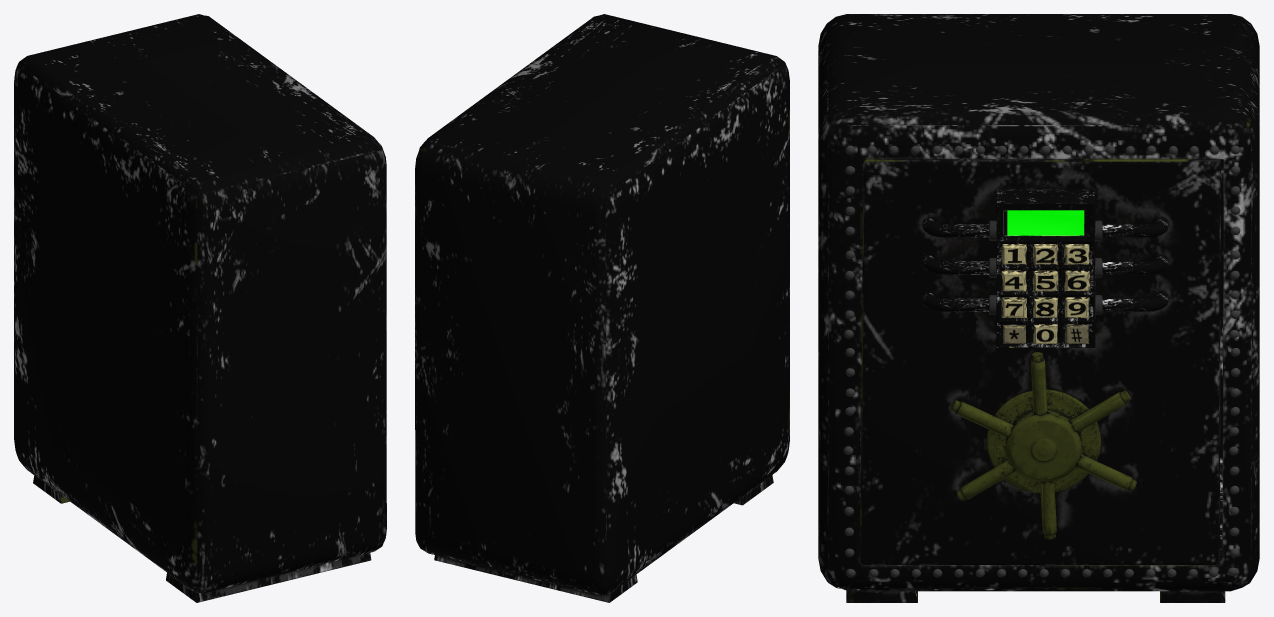
The model's file is heavy_duty_steel_safe_with_digital_keypad.glb.
3 views of the same model, side by side, from view 1: azimuth 30°, elevation 25°; view 2: azimuth 150°, elevation 25°; view 3: azimuth 270°, elevation 25° (orthographic). The views are drawn at different scales.
Visible parts, largest first — view 1: SafeBody_4; view 2: SafeBody_4; view 3: door_32, SafeBody_4, keypadBody_25, handle_11, Circle_33, handlepad_12, wire.003_29, wire.004_30, wire.002_28, wire_26, wire.001_27, wire.005_31 (+1 smaller).
Part boxes in pixels (x1,y1,x2,y2): SafeBody_4: (14, 14, 386, 602); SafeBody_4: (415, 14, 789, 602); door_32: (860, 159, 1220, 564); SafeBody_4: (818, 14, 1259, 602); keypadBody_25: (996, 189, 1095, 347); handle_11: (950, 352, 1136, 539); Circle_33: (844, 145, 1240, 577); handlepad_12: (986, 389, 1100, 493); wire.003_29: (1102, 292, 1168, 311); wire.004_30: (1102, 255, 1168, 274); wire.002_28: (1102, 218, 1168, 237); wire_26: (922, 292, 988, 311); wire.001_27: (922, 255, 988, 274); wire.005_31: (922, 218, 988, 237).
Size of the model in its own units: 2.27 by 4.1 by 3.34.
7 materials, 3 textured.
